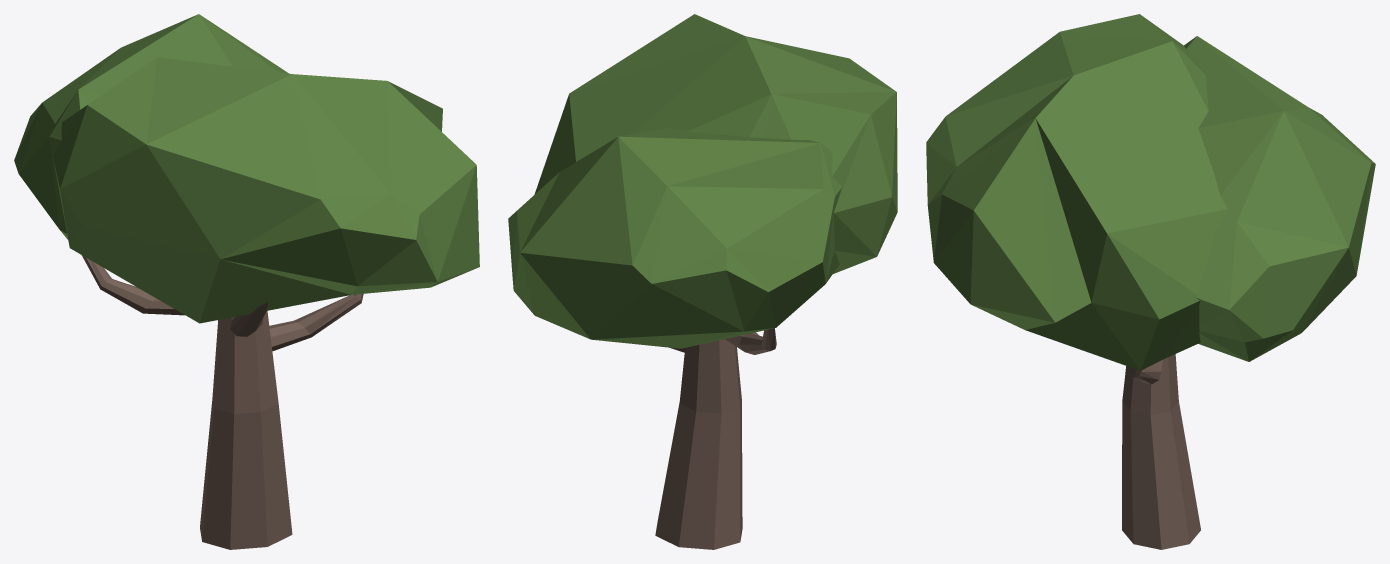
The model's file is Tree1.fbx.
The picture shows the model from 3 angles, left to right: view 1: azimuth 30°, elevation 25°; view 2: azimuth 150°, elevation 25°; view 3: azimuth 270°, elevation 25°; orthographic projection. The views are drawn at different scales.
Parts seen in each view (by area): view 1: Cube.004; view 2: Cube.004; view 3: Cube.004.
Part boxes in pixels (x1=…): Cube.004: x1=14, y1=14, x2=479, y2=549; Cube.004: x1=508, y1=14, x2=897, y2=549; Cube.004: x1=926, y1=14, x2=1375, y2=549.
Size of the model in its own units: 461 by 584 by 524.
1 material, 1 textured.
